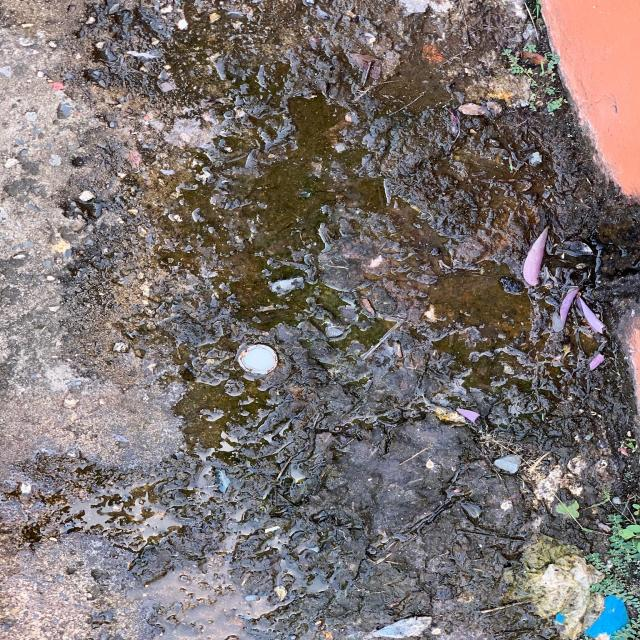litter: (553, 594, 631, 639), (237, 344, 278, 375), (215, 470, 231, 493)
